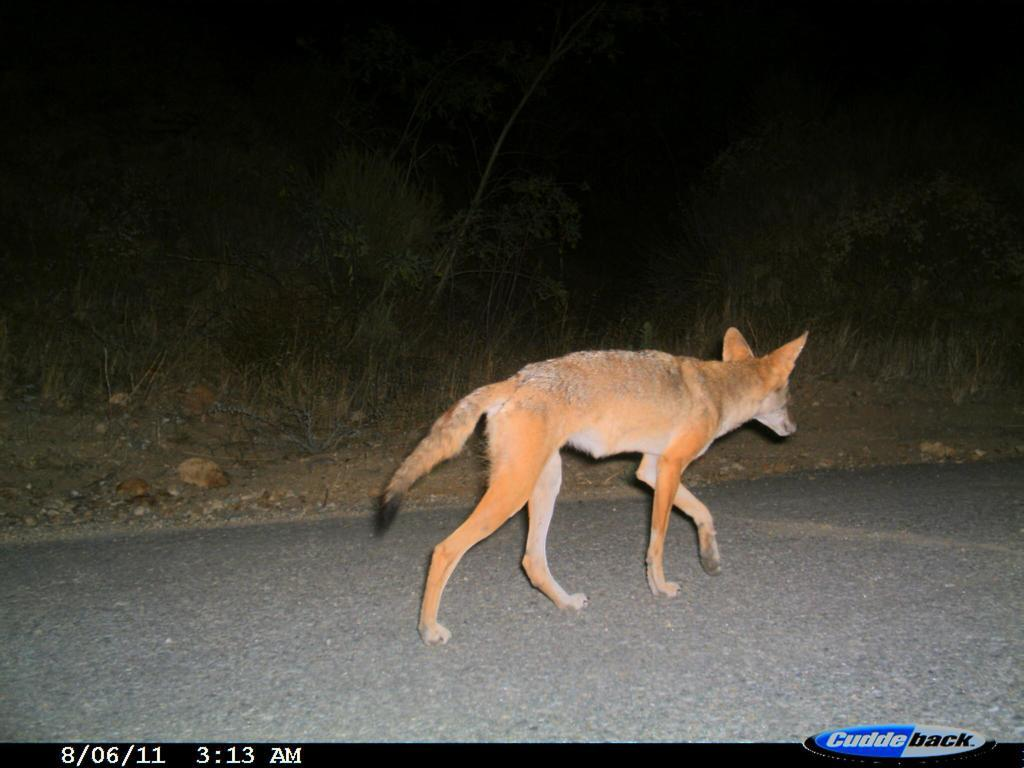coyote: (367, 326, 813, 648)
